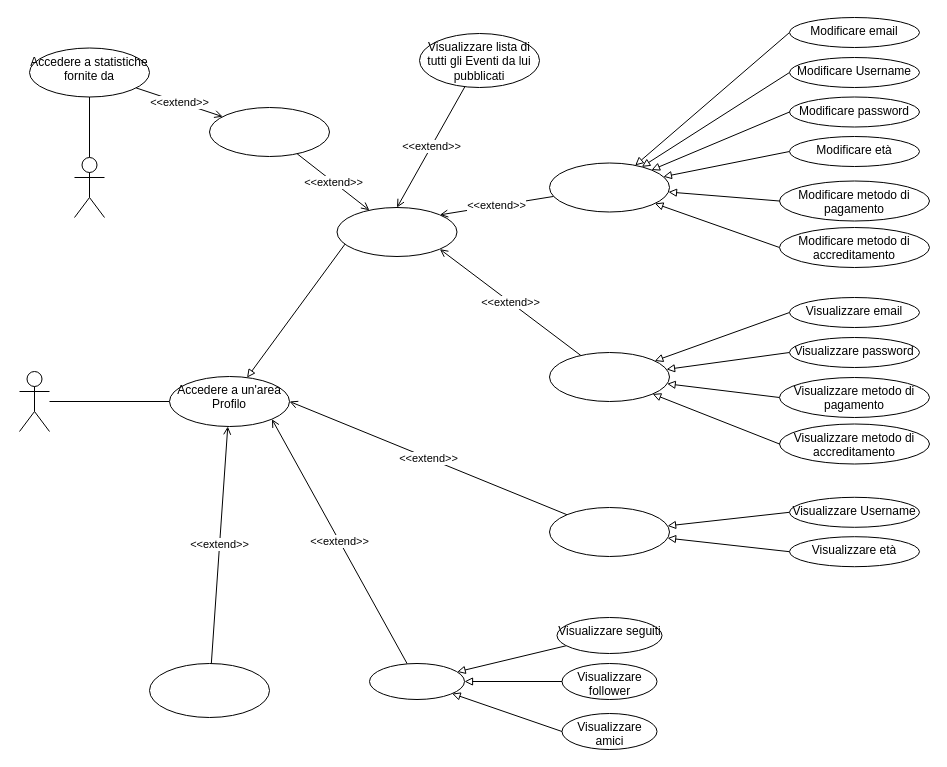
Some shapes in this 947 by 767 pixel diagram are drawn without their labels. Each missing label, with the centre of its shape:
Accedere alla propria area profilo: (396,231)
Avere Account Business: (269,131)
Modificare dati personali: (609,187)
Sistema: (89,187)
Utente: (34,401)
Visualizzare dati personali: (609,531)
Visualizzare dati sensibili: (609,377)
Visualizzare lista di Eventi in base a criteri di visibilià: (209,690)
Visualizzare network: (416,681)
